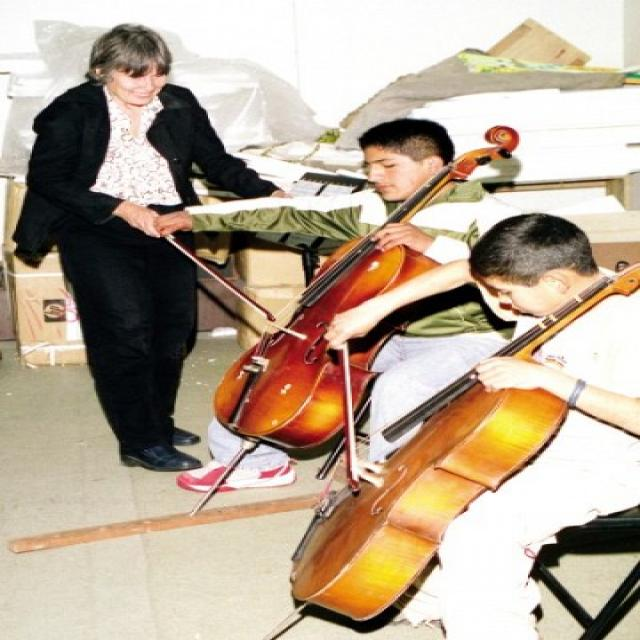cello: (288, 262, 640, 620), (211, 125, 521, 449)
